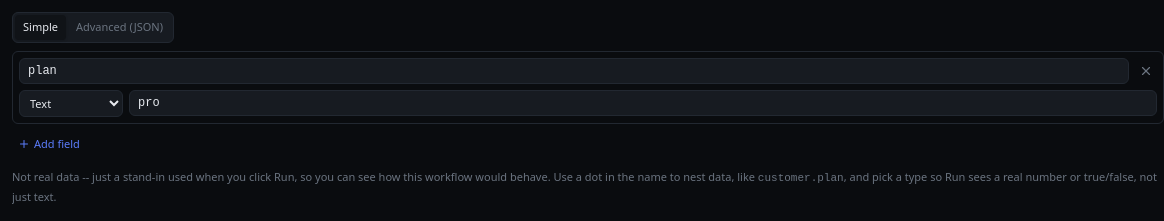
Test: SamplePayloadEditor › switching a row's type to Number resets an incompatible value to 0
Select "Number" in the dropdown named "Field 1 type": (71, 103) [19,90,123,116]
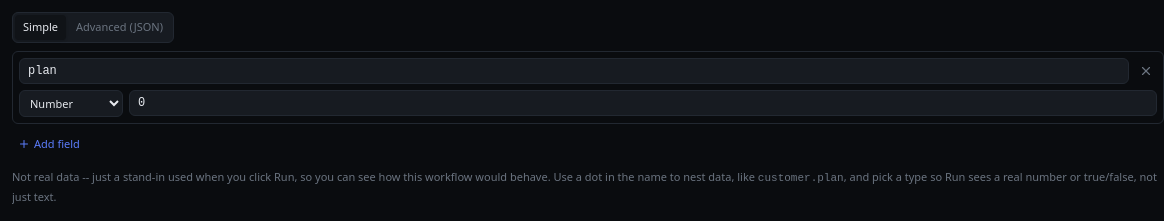
Expected: the field named "Field 1 value" holds "0", [129,90,1157,116]
